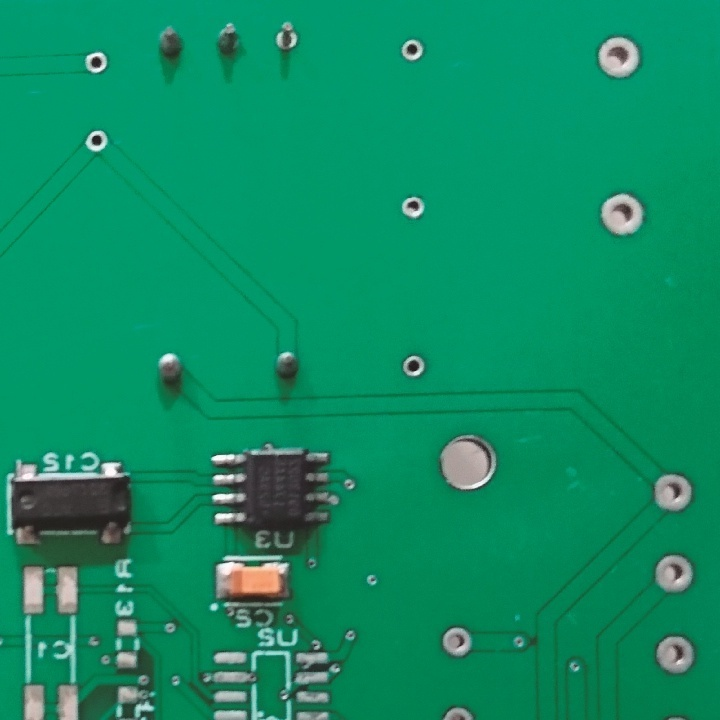F: (598, 189, 647, 241), (594, 35, 643, 80), (650, 468, 695, 516), (654, 550, 695, 596), (653, 633, 695, 676), (439, 626, 474, 662), (273, 23, 301, 56), (82, 127, 111, 155), (399, 37, 426, 66), (84, 49, 109, 78), (401, 196, 427, 221), (401, 353, 427, 378), (439, 702, 474, 720)
